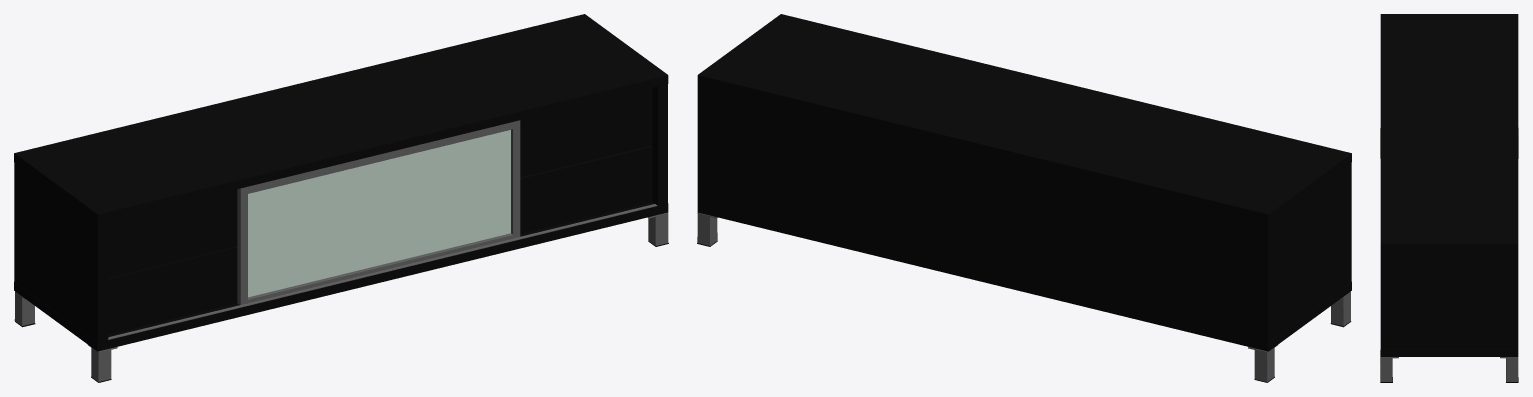
The model's file is encinas.fbx.
3 views of the same model, side by side, from view 1: azimuth 30°, elevation 25°; view 2: azimuth 150°, elevation 25°; view 3: azimuth 270°, elevation 25° (orthographic). The views are drawn at different scales.
Visible parts, largest first — view 1: Component1, Component8_1, Component4_1; view 2: Component1, Component4_1; view 3: Component1, Component4_1.
Part boxes in pixels (<box>): Component1: <box>14,14,668,351</box>; Component8_1: <box>248,130,510,297</box>; Component4_1: <box>14,120,668,381</box>; Component1: <box>697,14,1351,351</box>; Component4_1: <box>697,212,1350,382</box>; Component1: <box>1380,14,1518,356</box>; Component4_1: <box>1380,128,1518,381</box>.
Bounding box in the file's own units: 70.75 × 20 × 18.
